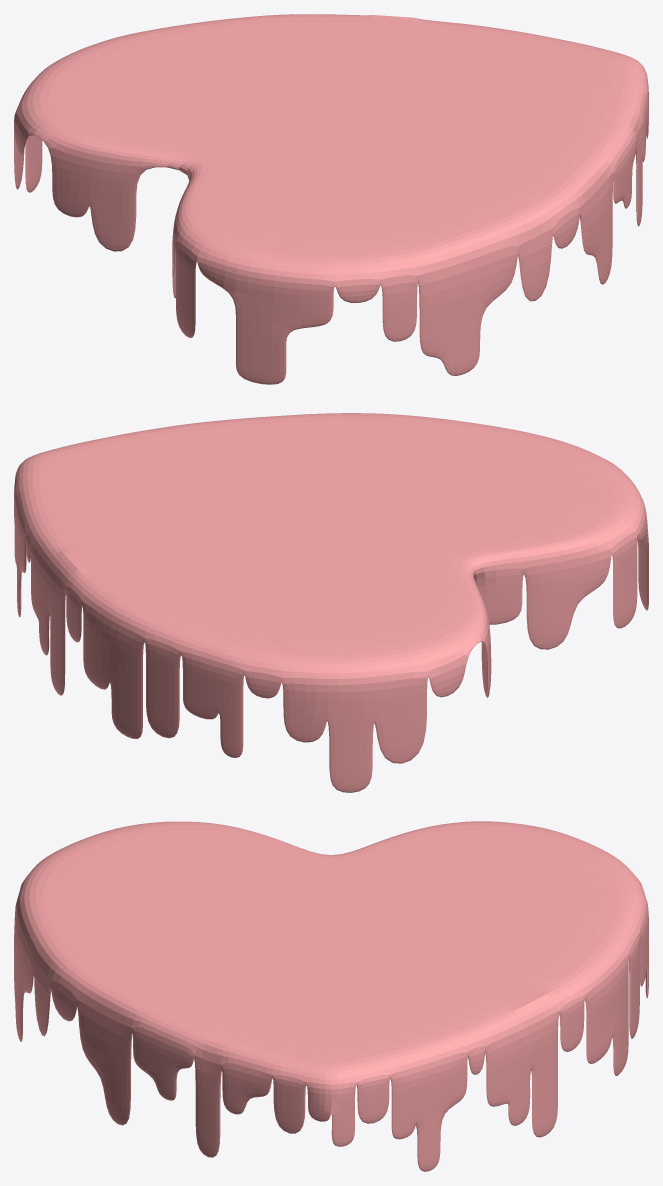
File: GlazePink.glb
3 renders of one model, top to bottom at view 1: azimuth 30°, elevation 25°; view 2: azimuth 150°, elevation 25°; view 3: azimuth 270°, elevation 25°, orthographic.
Visible parts, largest first — view 1: Cylinder.008; view 2: Cylinder.008; view 3: Cylinder.008.
Part boxes in pixels (left/top/right/bottom): Cylinder.008: left=14, top=14, right=648, bottom=384; Cylinder.008: left=14, top=413, right=648, bottom=792; Cylinder.008: left=14, top=821, right=648, bottom=1171.
Size of the model in its own units: 1.63 by 0.3791 by 1.66.
